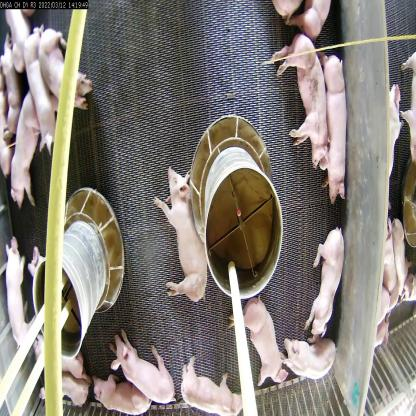Pig: (159, 166, 212, 320), (270, 36, 325, 158), (44, 21, 94, 114), (22, 19, 53, 164), (247, 294, 289, 398), (317, 54, 346, 194), (9, 92, 42, 201), (119, 332, 171, 398), (180, 355, 233, 415), (314, 238, 344, 340), (288, 338, 339, 398), (42, 370, 103, 415), (4, 244, 29, 346), (97, 379, 155, 416)
